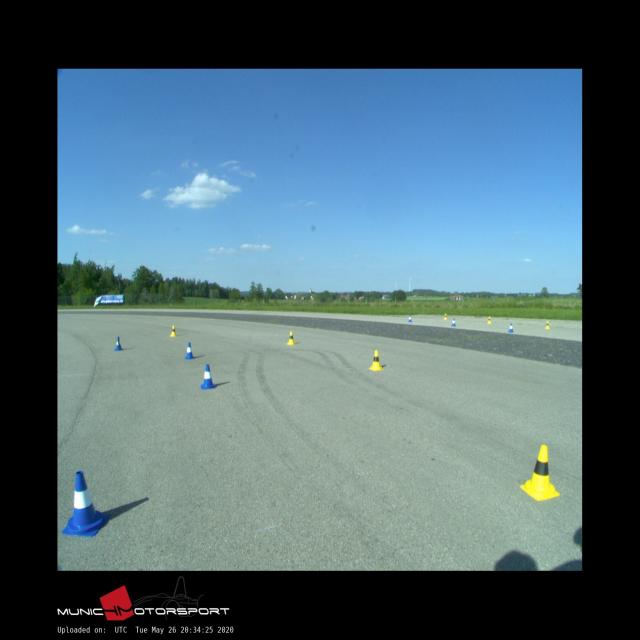blue_cone: (63, 471, 109, 537), (200, 365, 216, 389), (184, 343, 193, 359), (114, 337, 122, 350), (508, 323, 514, 332), (451, 318, 456, 326), (408, 315, 412, 322)
yellow_cone: (520, 444, 560, 500), (370, 350, 382, 370), (286, 332, 296, 344), (170, 325, 177, 336), (545, 321, 550, 329), (487, 316, 491, 324), (444, 313, 447, 320)
